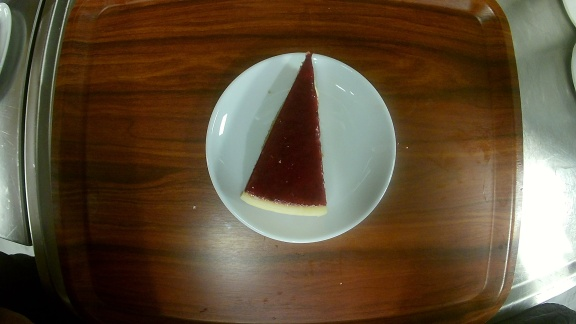frambuazlipasta: (204, 52, 398, 243)
